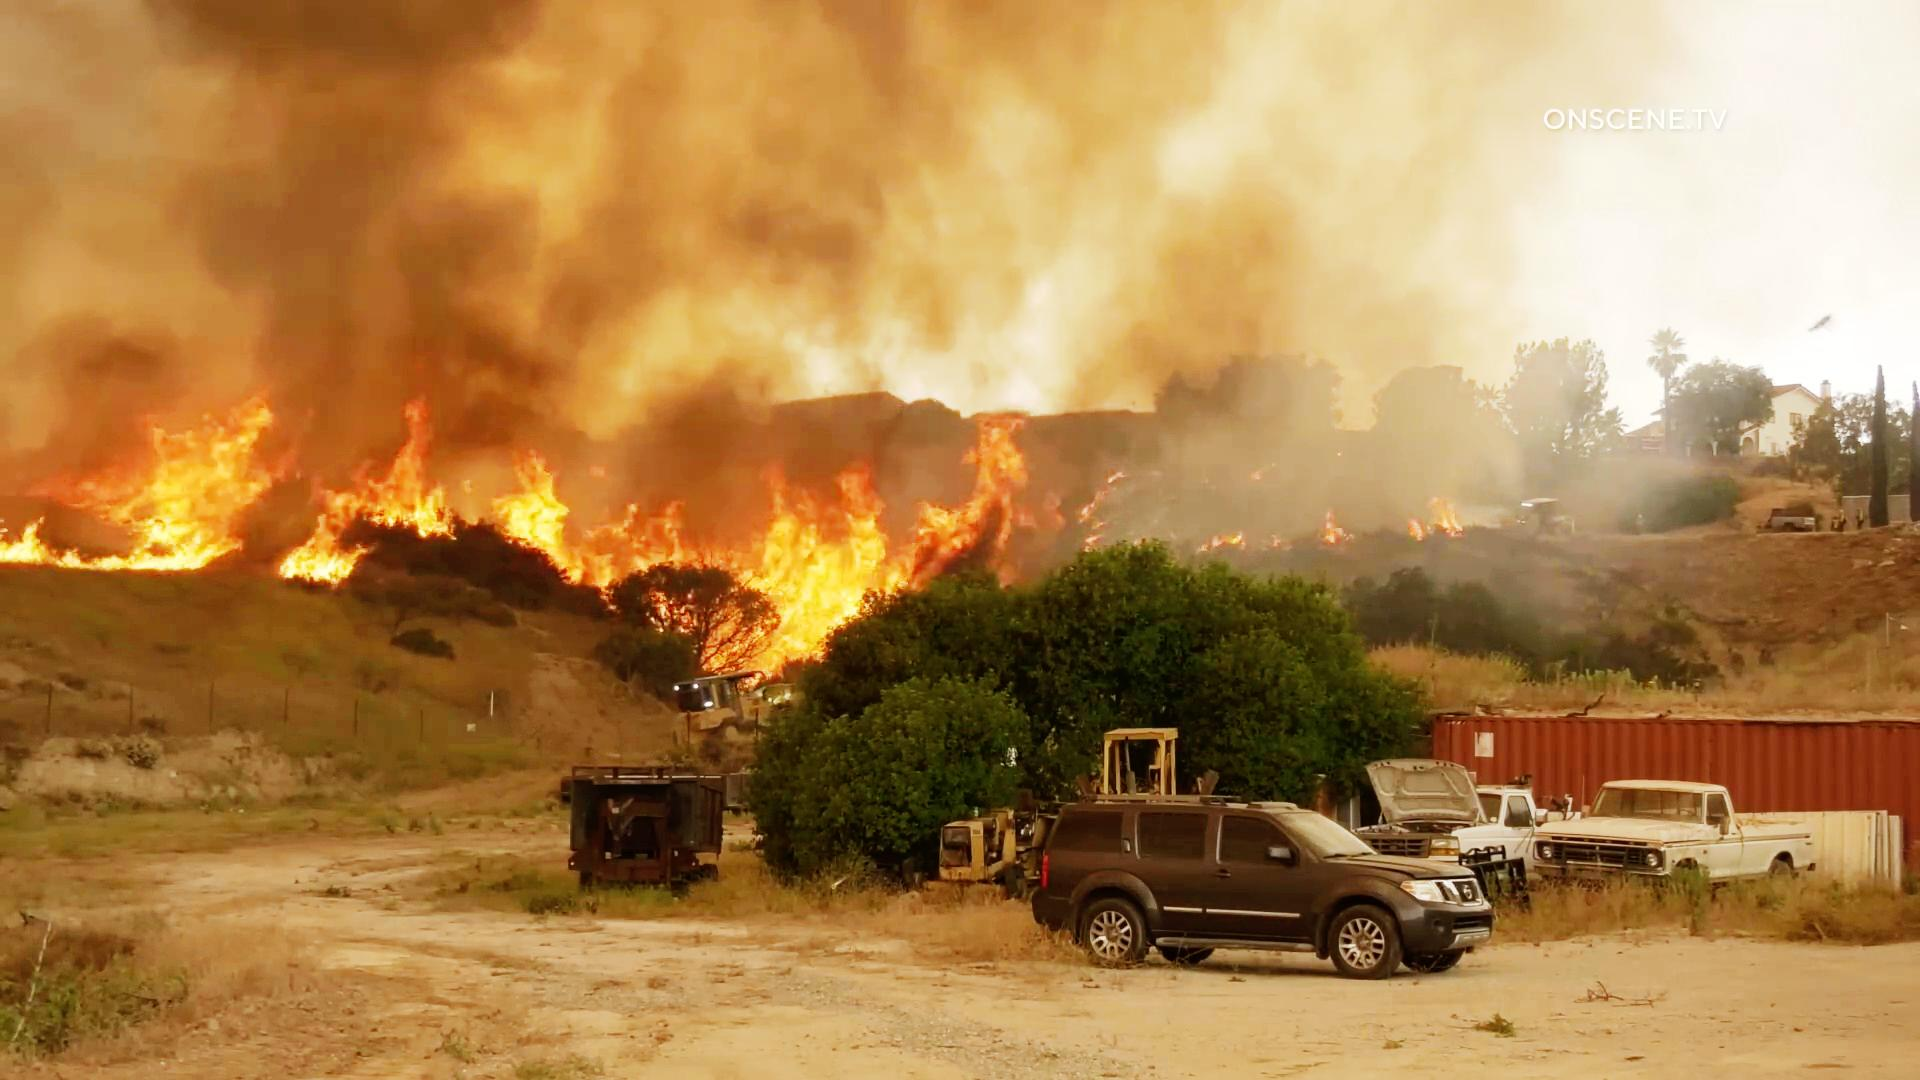fire: (699, 417, 963, 680), (41, 376, 273, 559), (326, 393, 585, 541)
smoke: (32, 25, 455, 355)
